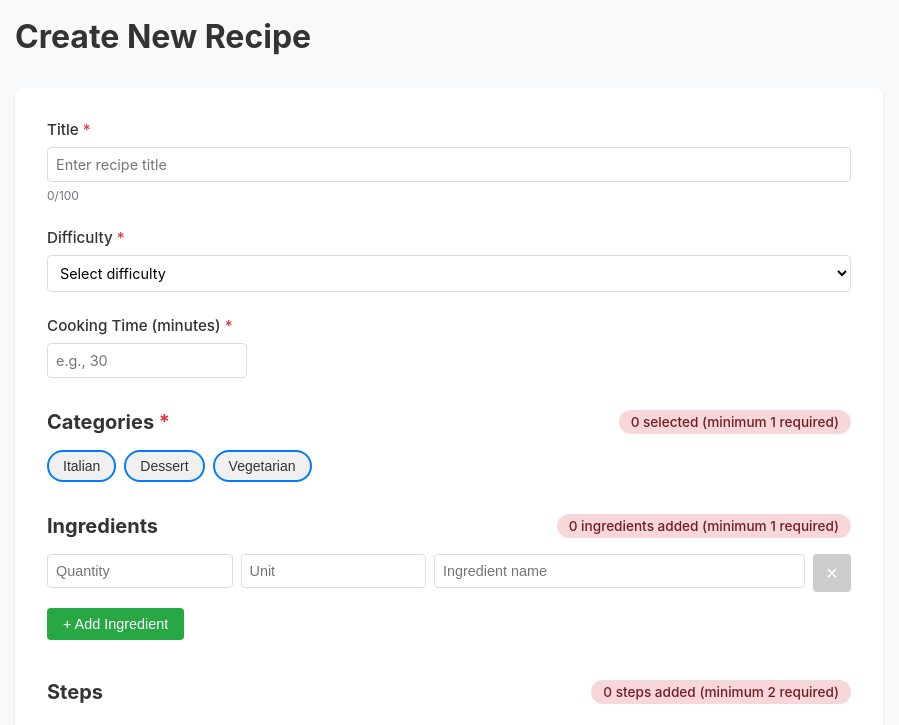
CreateRecipeView › Basic Info Section - Title Field › shows validation error for empty title on blur
The image size is (899, 725).
Click the field labelled "Title *". click: (449, 164)
box: [47, 147, 851, 182]
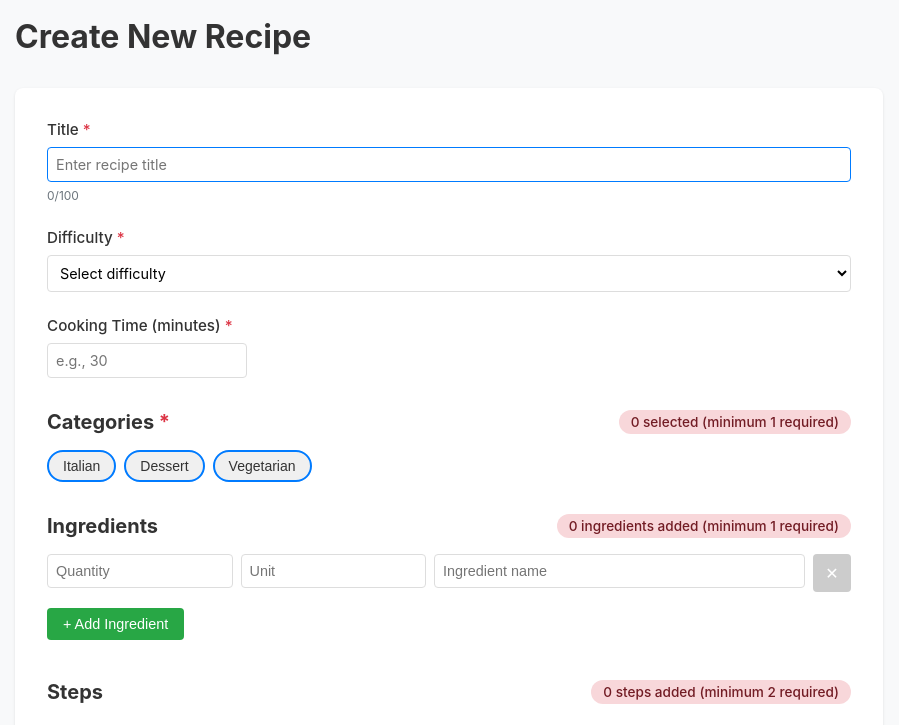
Press Tab
(page scrolled)
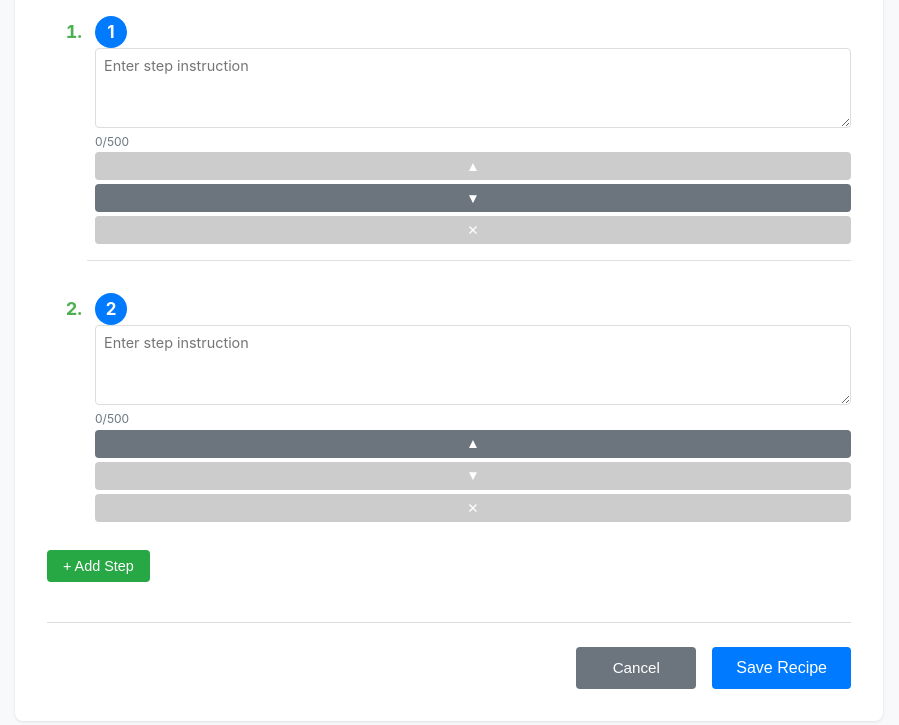
Click the button "Save Recipe". click: (782, 668)
box: [712, 647, 851, 689]
(page scrolled)
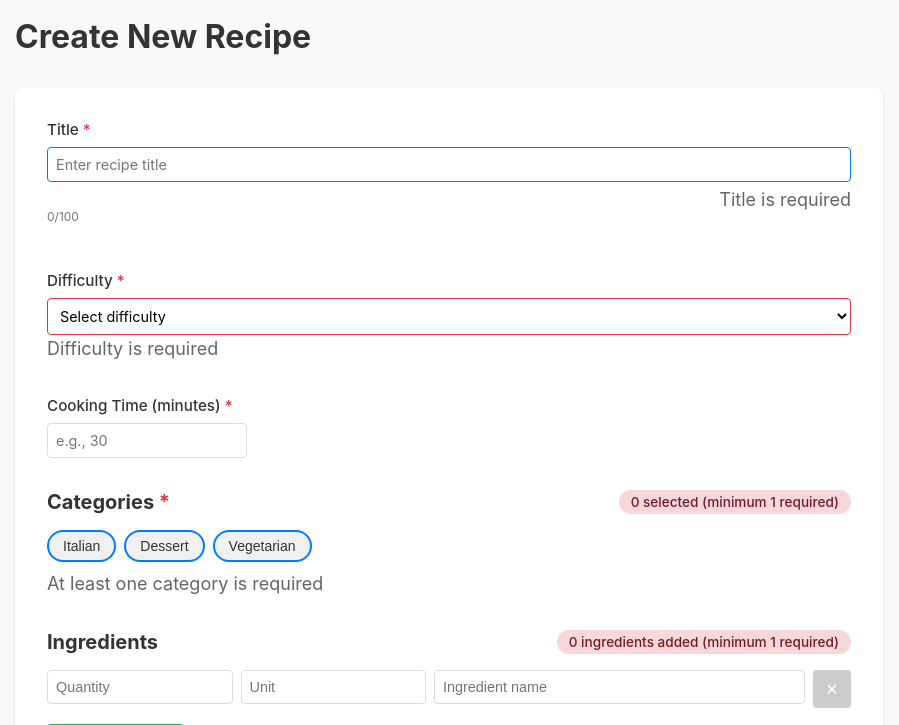
Now the text "Title is required" is shown, box [719, 186, 851, 215]
